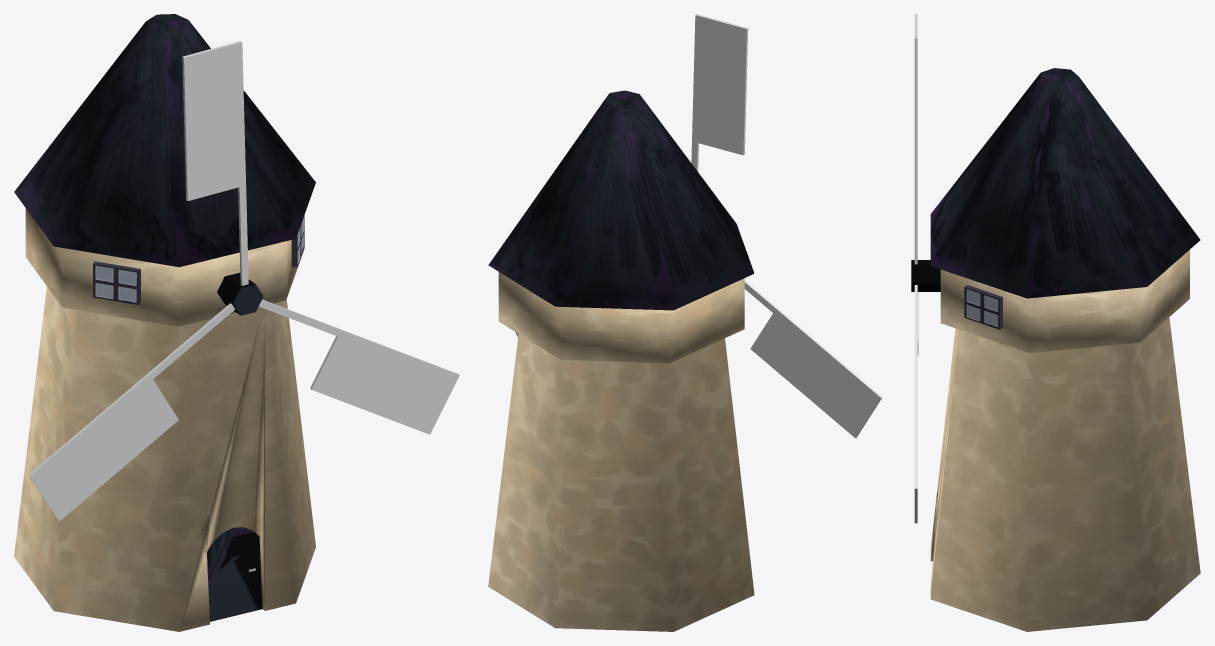
The model's file is WindmuehleExport.gltf.
The picture shows the model from 3 angles, left to right: view 1: azimuth 30°, elevation 25°; view 2: azimuth 150°, elevation 25°; view 3: azimuth 270°, elevation 25°; orthographic projection. The views are drawn at different scales.
Parts seen in each view (by area): view 1: Turm, Dach, Rad-03, Rad-02, Rad-01, Tuer, Fenster01.001, Stempen; view 2: Turm, Dach, Rad-03, Rad-02; view 3: Turm, Dach, Fenster01, Rad-02, Rad-01, Stempen.
Part boxes in pixels (box(x1,y1,x2,y2)): Turm: box(14, 208, 315, 631); Dach: box(14, 14, 315, 267); Rad-03: box(29, 303, 235, 521); Rad-02: box(182, 41, 248, 285); Rad-01: box(258, 299, 459, 434); Tuer: box(207, 527, 262, 621); Fenster01.001: box(93, 261, 140, 304); Stempen: box(217, 272, 263, 315); Turm: box(488, 272, 754, 631); Dach: box(488, 90, 754, 310); Rad-03: box(744, 280, 882, 438); Rad-02: box(691, 14, 748, 171); Turm: box(930, 250, 1200, 631); Dach: box(930, 68, 1200, 298); Fenster01: box(964, 285, 1002, 329); Rad-02: box(914, 14, 917, 264); Rad-01: box(914, 285, 917, 523); Stempen: box(911, 260, 940, 291).
Bounding box in the file's own units: 3.71 × 4.82 × 2.37.
Materials: 4 (3 with a texture image).
